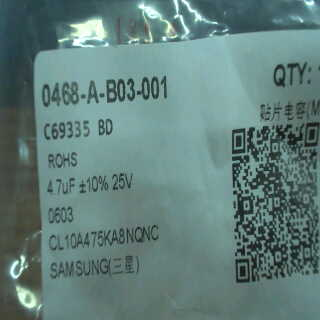4.7uF: (44, 172, 79, 198)
